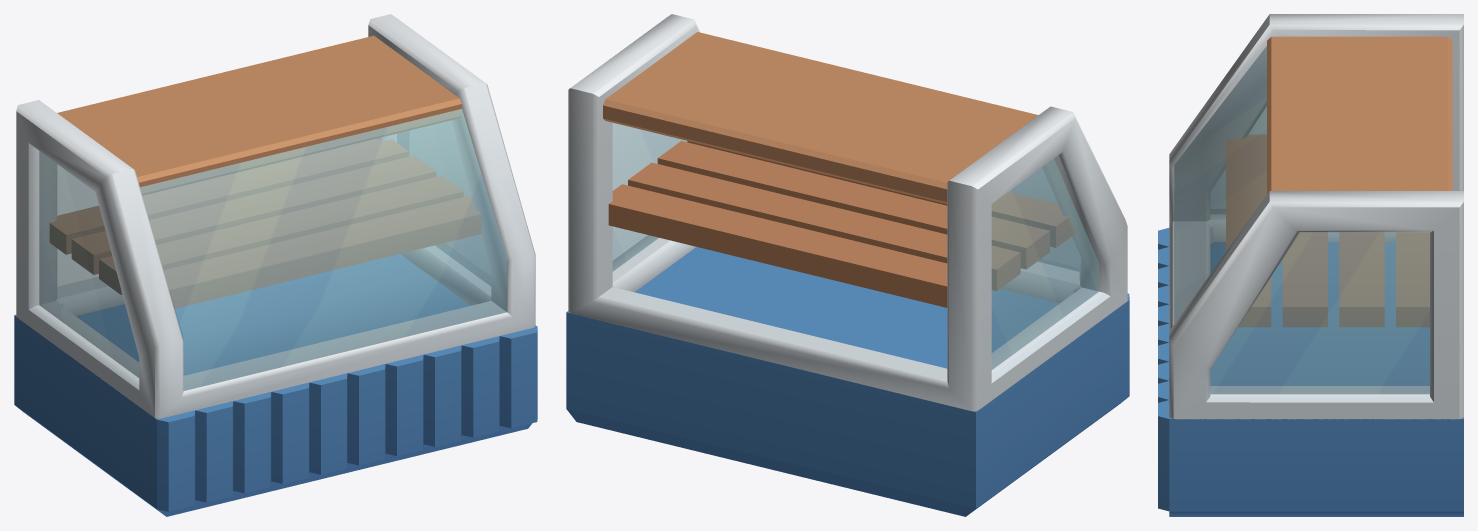
The model's file is display-case-long.glb.
3 views of the same model, side by side, from view 1: azimuth 30°, elevation 25°; view 2: azimuth 150°, elevation 25°; view 3: azimuth 270°, elevation 25° (orthographic). The views are drawn at different scales.
Visible parts, largest first — view 1: display_case_long; view 2: display_case_long; view 3: display_case_long.
Part boxes in pixels (x1,y1,x2,y2): display_case_long: (14,14,537,516); display_case_long: (566,14,1129,516); display_case_long: (1158,14,1463,516).
Size of the model in its own units: 2 by 1.55 by 1.35.
2 materials, 2 textured.
